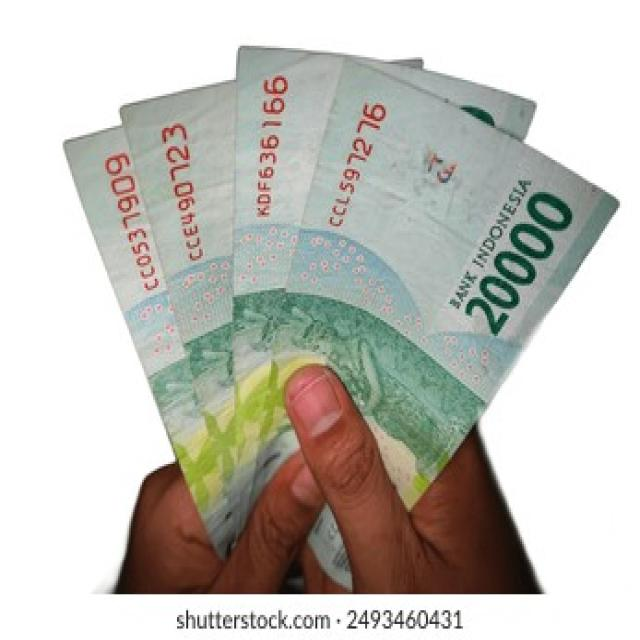dua puluh ribu rupiah: (244, 54, 626, 524), (59, 121, 238, 565), (122, 79, 240, 535), (238, 45, 343, 535)
